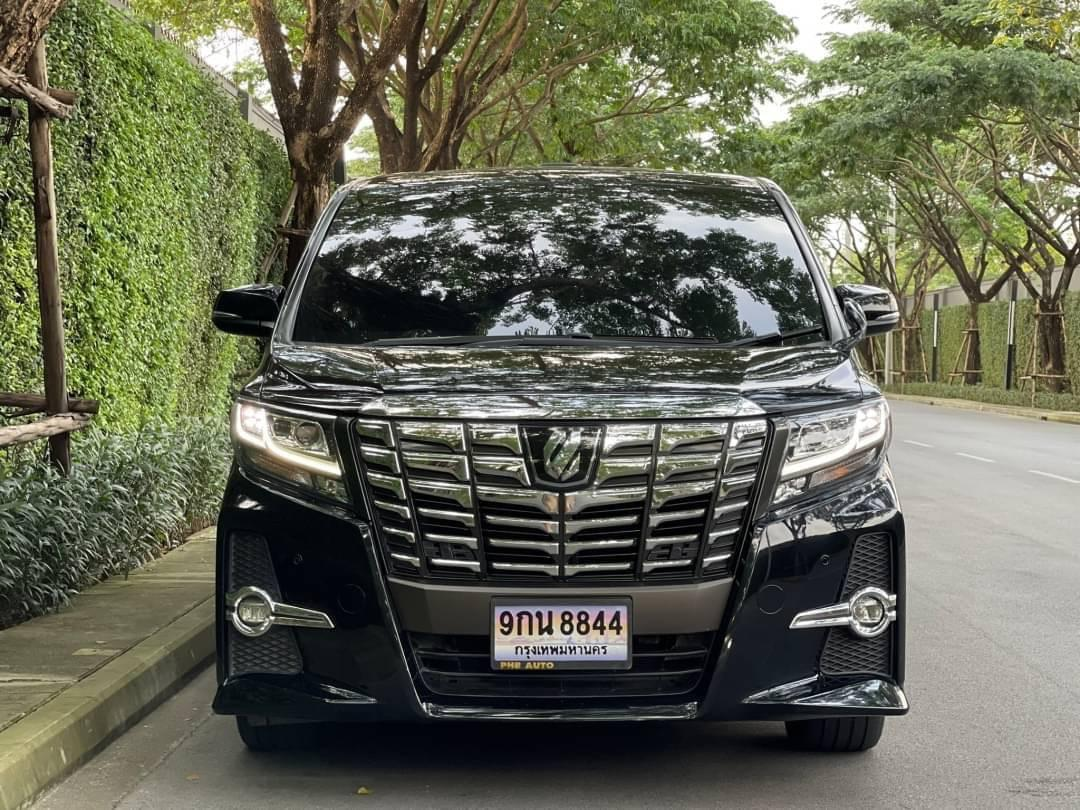license-plate: (489, 594, 633, 672)
